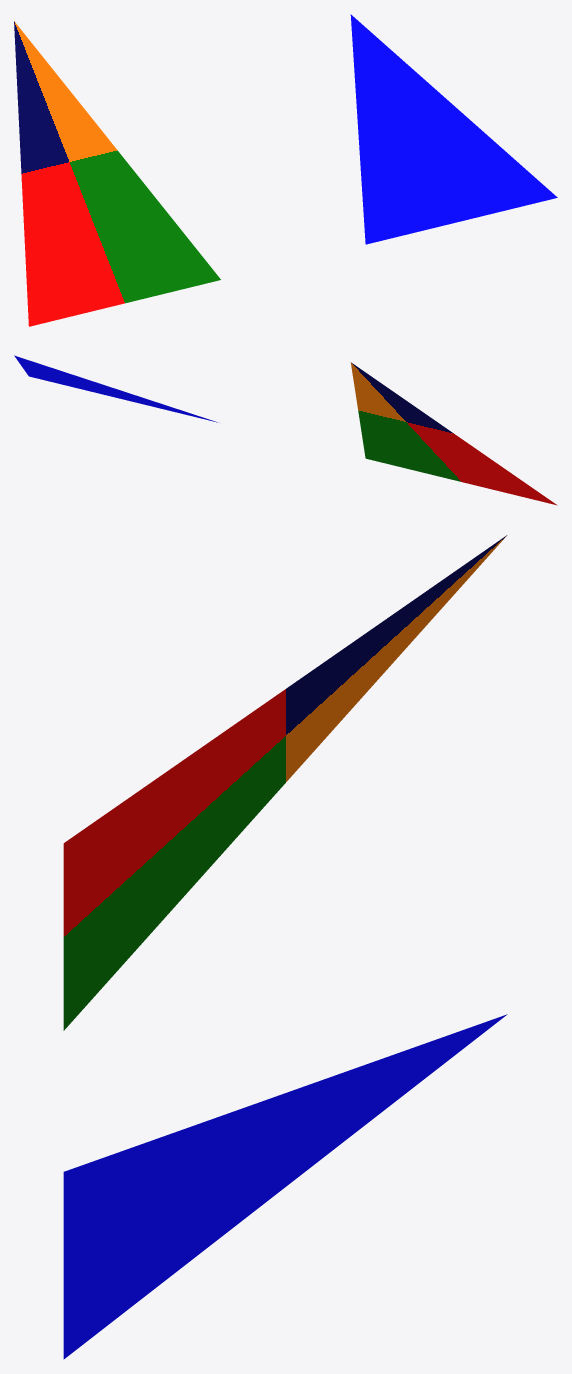
The model's file is multi.glb.
The picture shows the model from 3 angles, top to bottom: view 1: azimuth 30°, elevation 25°; view 2: azimuth 150°, elevation 25°; view 3: azimuth 270°, elevation 25°; orthographic projection. The views are drawn at different scales.
Bounding box in the file's own units: 110 × 40 × 40.
2 materials, 1 textured.
